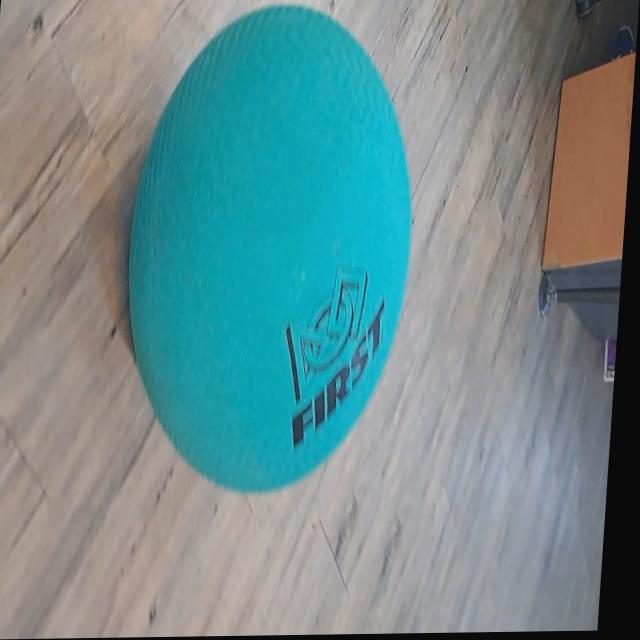ALGAE: (111, 1, 428, 497)
